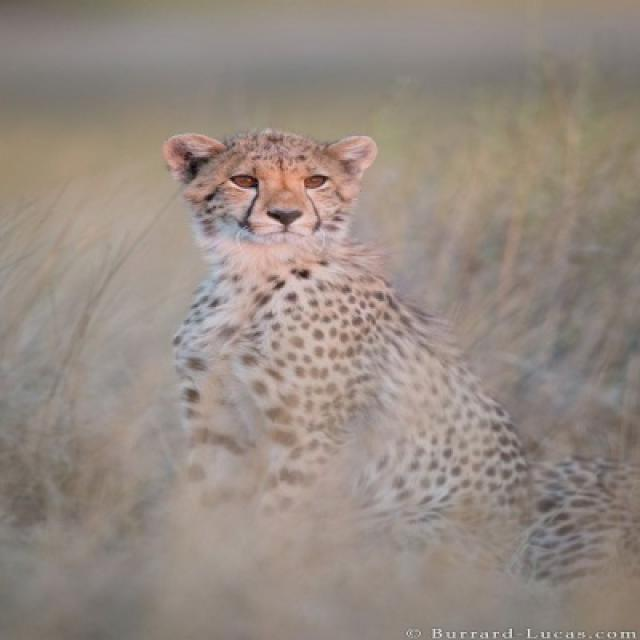Cheetah: (163, 128, 638, 605)
